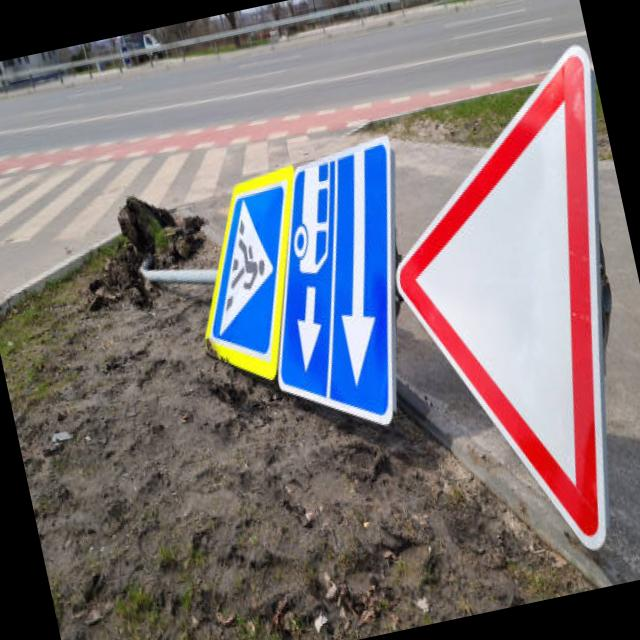give_way: (390, 32, 610, 549)
